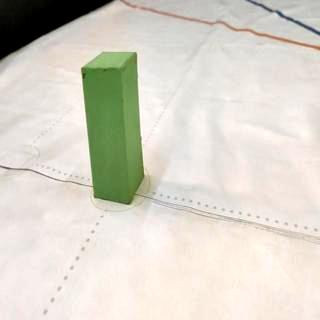greenbox: (80, 51, 145, 206)
